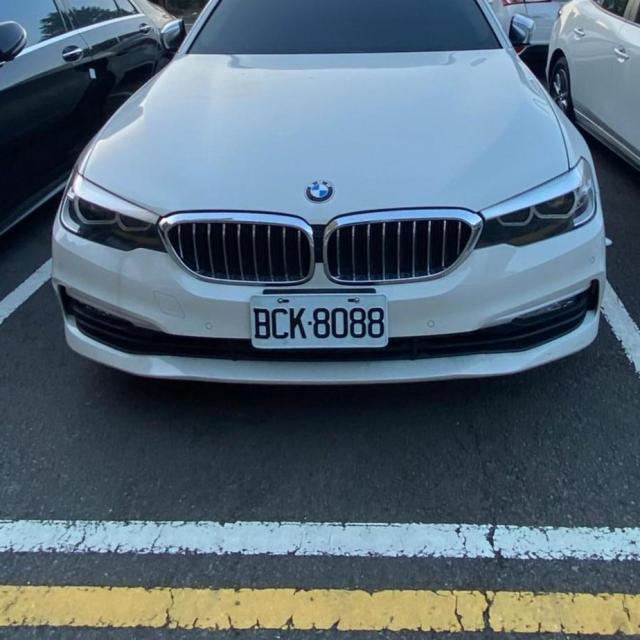W: (241, 281, 395, 350)
